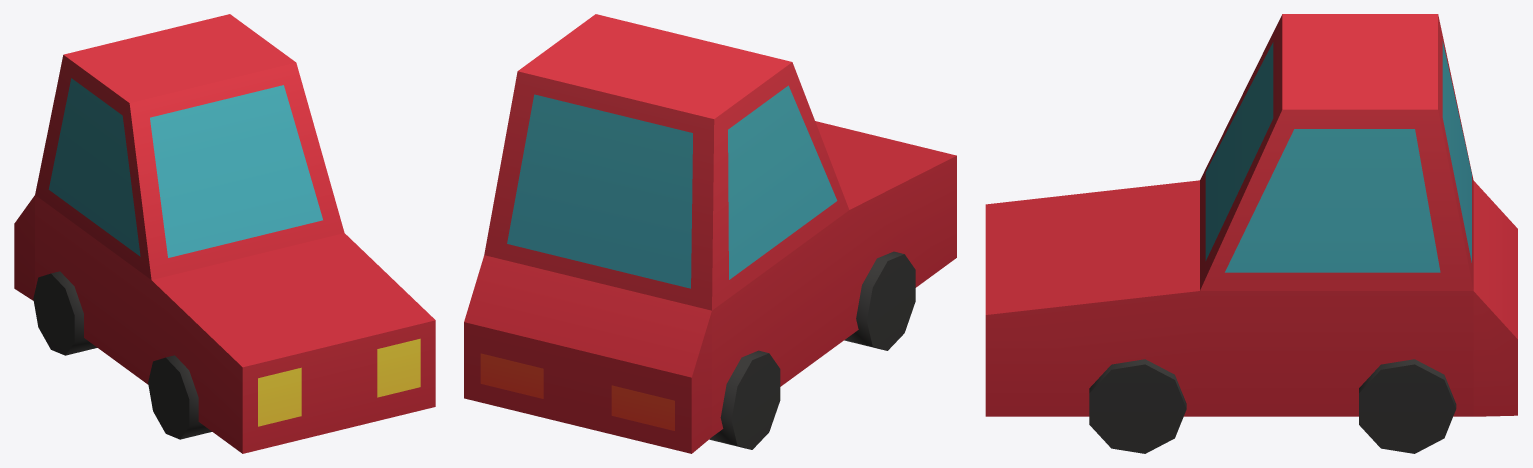
Rendered from Car_4_1.fbx.
The picture shows the model from 3 angles, left to right: view 1: azimuth 30°, elevation 25°; view 2: azimuth 150°, elevation 25°; view 3: azimuth 270°, elevation 25°; orthographic projection. The views are drawn at different scales.
Parts seen in each view (by area): view 1: Car_4_1; view 2: Car_4_1; view 3: Car_4_1.
Boxes of the visible parts, x1=… form: Car_4_1: x1=14, y1=14, x2=435, y2=453; Car_4_1: x1=464, y1=14, x2=956, y2=453; Car_4_1: x1=985, y1=14, x2=1517, y2=453.
Size of the model in its own units: 211 by 270 by 393.
